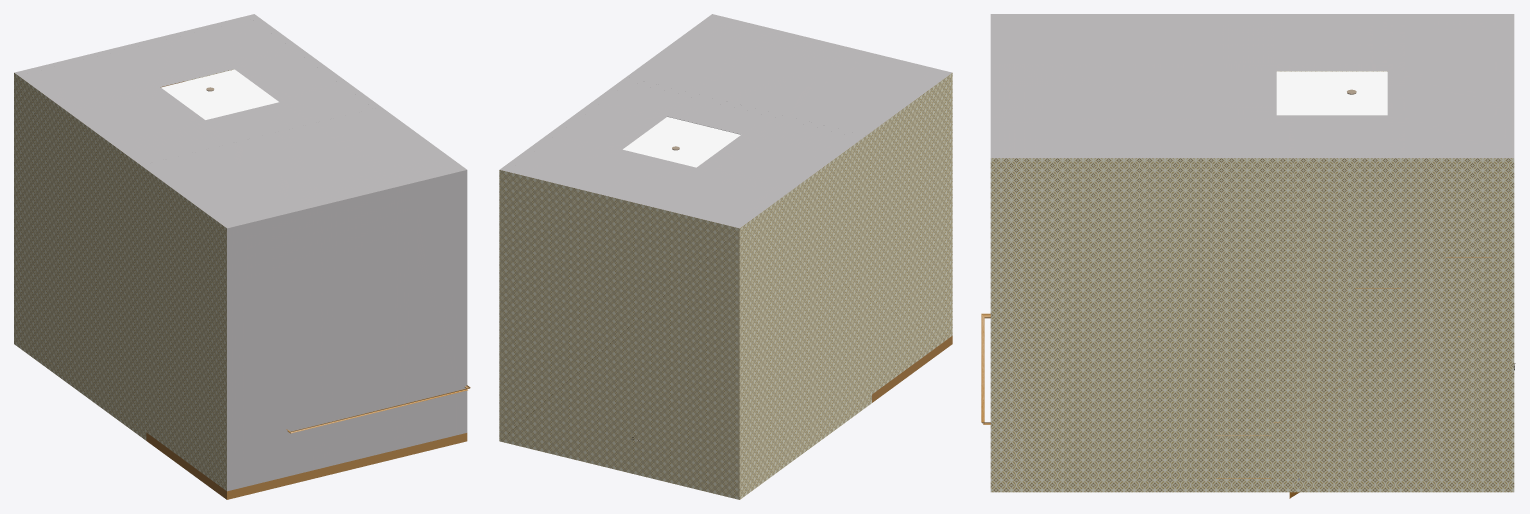
Rendered from wooden-staircase.glb.
The picture shows the model from 3 angles, left to right: view 1: azimuth 30°, elevation 25°; view 2: azimuth 150°, elevation 25°; view 3: azimuth 270°, elevation 25°; orthographic projection. The views are drawn at different scales.
Parts seen in each view (by area): view 1: WhitePaint2_0001, Wallpaper_0002, WhitePaint2_0002, object 775, WoodStairs_0318, WoodStairs_0183; view 2: Wallpaper_0002, WhitePaint2_0001, WhitePaint2_0002, object 775, WoodStairs_0318; view 3: Wallpaper_0002, WhitePaint2_0001, WhitePaint2_0002, object 775.
Part boxes in pixels (x1=…): WhitePaint2_0001: x1=26, y1=19, x2=467, y2=491; Wallpaper_0002: x1=14, y1=69, x2=234, y2=490; WhitePaint2_0002: x1=14, y1=14, x2=380, y2=165; object 775: x1=161, y1=69, x2=278, y2=119; WoodStairs_0318: x1=146, y1=432, x2=467, y2=499; WoodStairs_0183: x1=286, y1=385, x2=470, y2=433; Wallpaper_0002: x1=499, y1=73, x2=952, y2=499; WhitePaint2_0001: x1=511, y1=14, x2=951, y2=223; WhitePaint2_0002: x1=500, y1=77, x2=865, y2=228; object 775: x1=623, y1=117, x2=740, y2=167; WoodStairs_0318: x1=872, y1=336, x2=952, y2=402; Wallpaper_0002: x1=990, y1=71, x2=1514, y2=492; WhitePaint2_0001: x1=990, y1=14, x2=1503, y2=158; WhitePaint2_0002: x1=1202, y1=14, x2=1514, y2=158; object 775: x1=1276, y1=71, x2=1387, y2=115.
Size of what is drawn, in the model's own units: 6.61 by 7.32 by 10.34.
12 materials, 12 textured.
